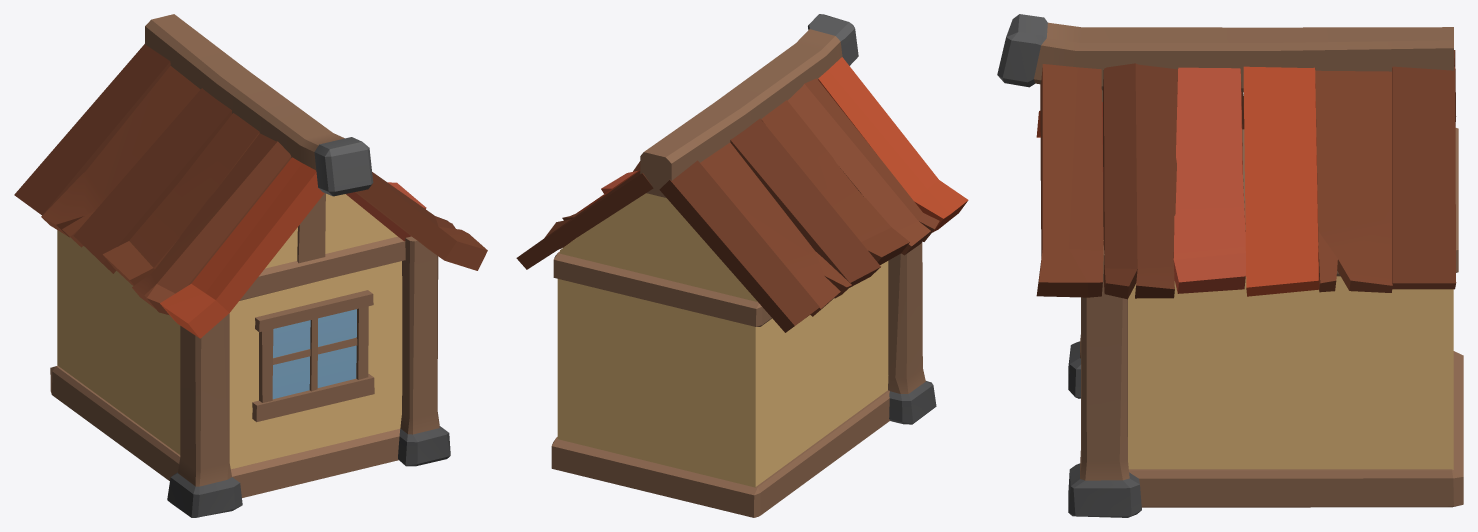
File: House_1Floor_Side_I.fbx
3 renders of one model, left to right at view 1: azimuth 30°, elevation 25°; view 2: azimuth 150°, elevation 25°; view 3: azimuth 270°, elevation 25°, orthographic. The views are drawn at different scales.
Parts seen in each view (by area): view 1: House_1Floor_Side_I; view 2: House_1Floor_Side_I; view 3: House_1Floor_Side_I.
Boxes of the visible parts, x1,y1,x2,y2 form: House_1Floor_Side_I: (14, 14, 487, 517); House_1Floor_Side_I: (516, 14, 968, 517); House_1Floor_Side_I: (997, 14, 1463, 517).
Bounding box in the file's own units: 254 × 288 × 287.
